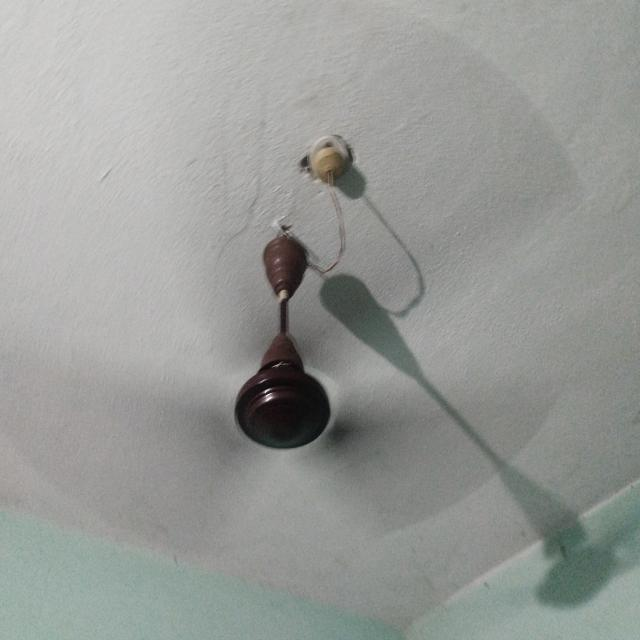fan_on: (10, 15, 593, 541)
